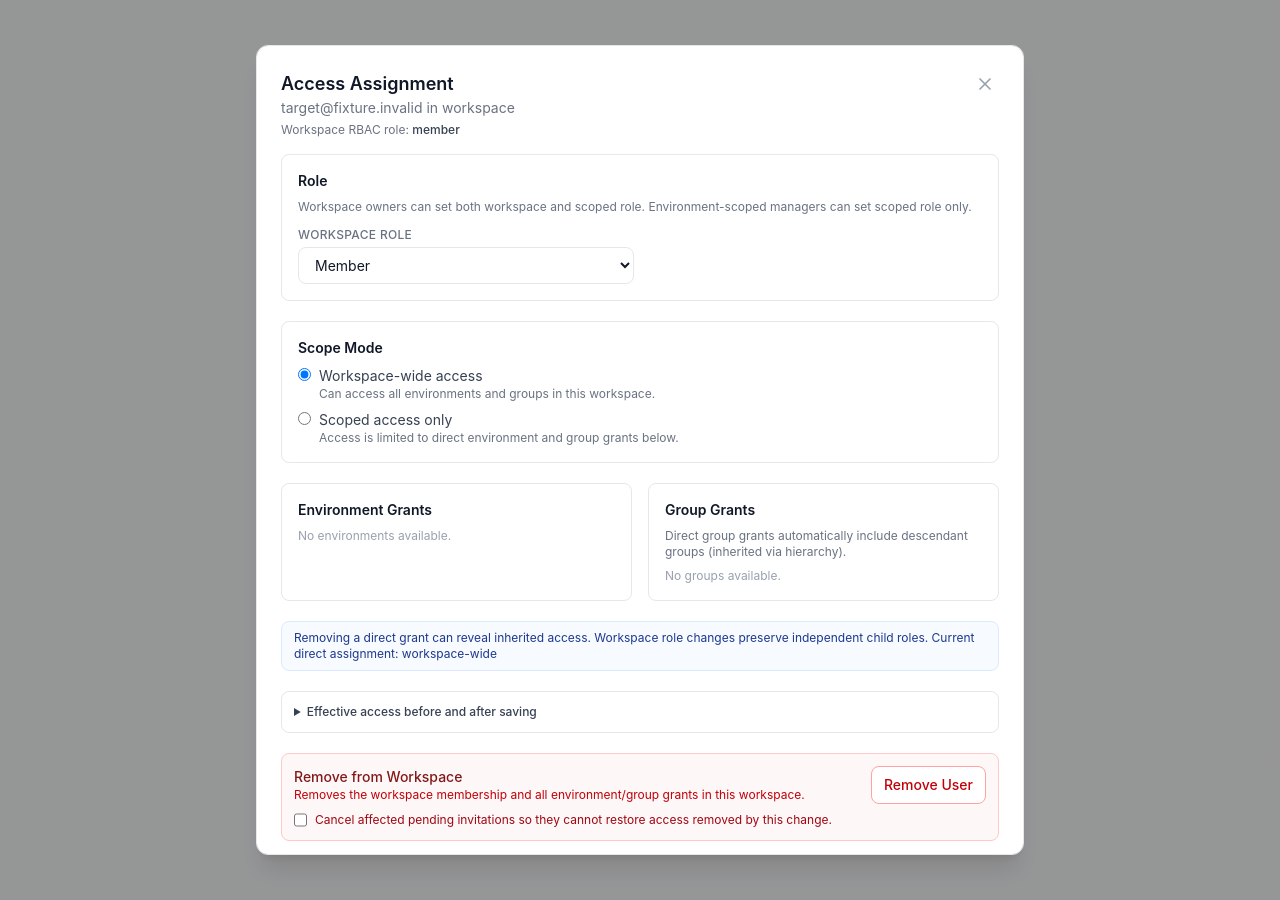
Test: membership editor lifecycle › sends the selected cancellation through the real removal hook and retains it for a failed retry
Later steps or results of the test are not shown.
Expected: the button "Remove User" is shown, [871,766,986,804]
What coordinates should you click on to do the following:
click the checkbox labelled "Cancel affected pending invitations"
I would click on:
 (300, 820)
Its box is [294,812,307,828].
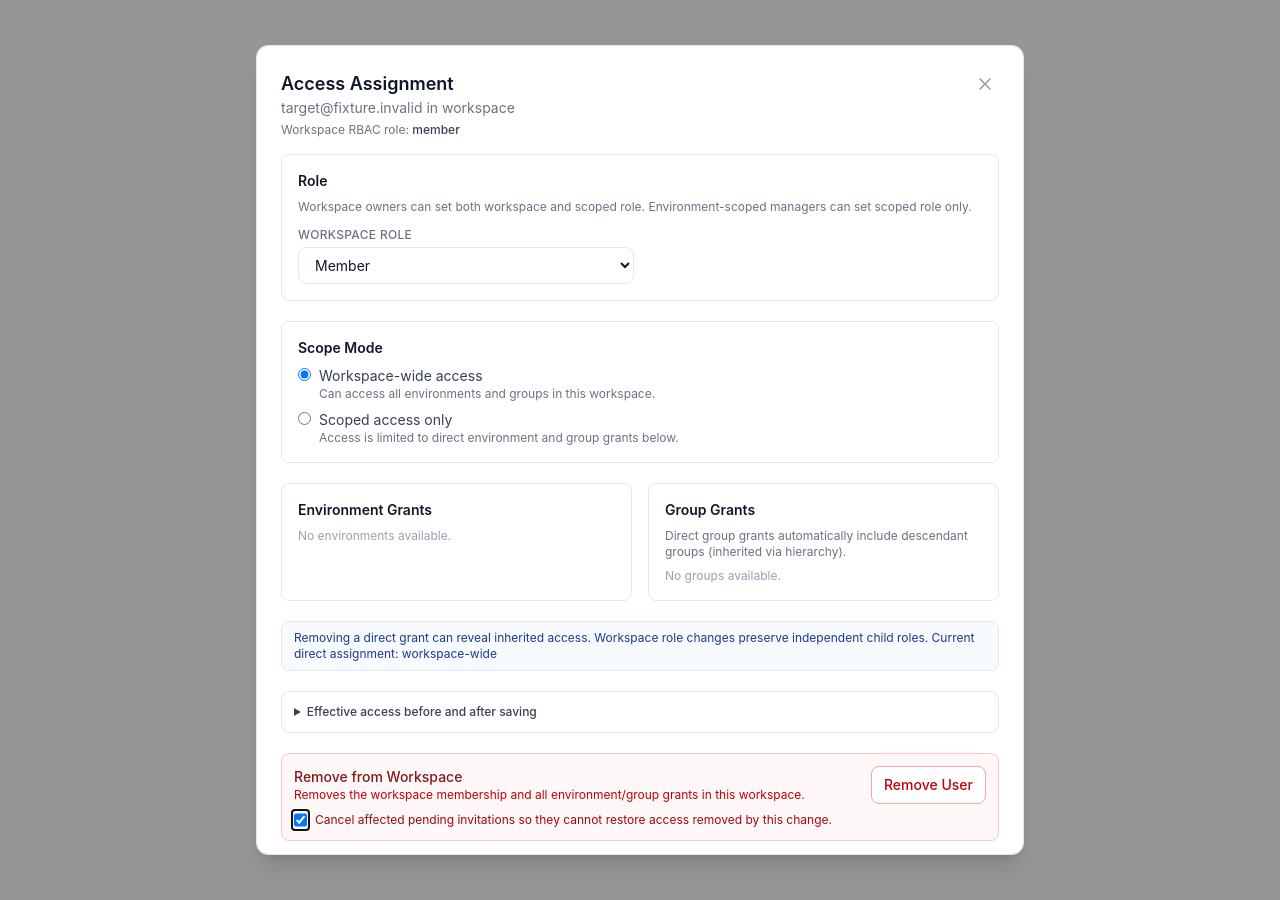
What coordinates should you click on to do the following:
click the button "Remove User"
I would click on:
 (928, 785)
Its box is [871,766,986,804].
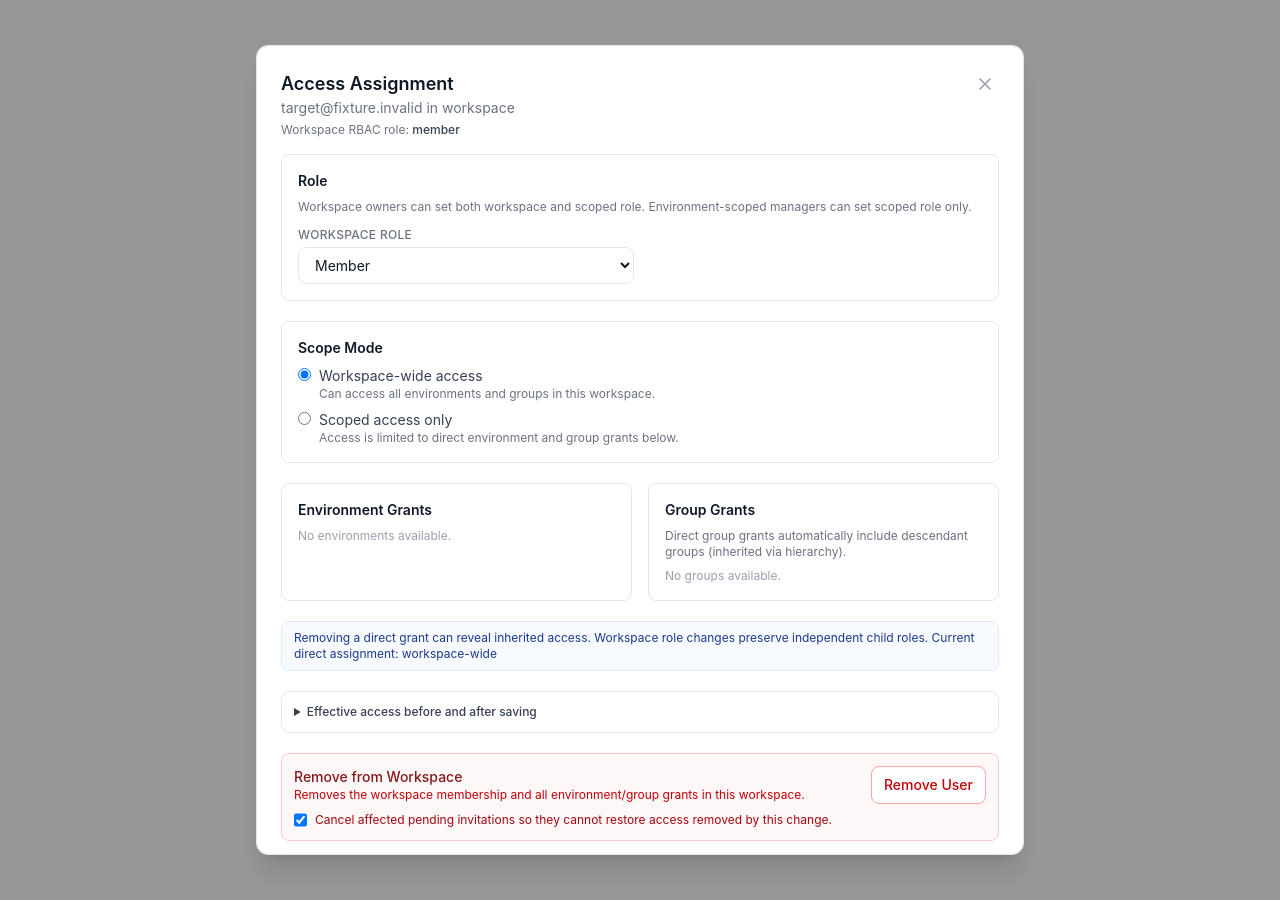
Result: the checkbox labelled "Cancel affected pending invitations" is checked at [294,812,307,828]
